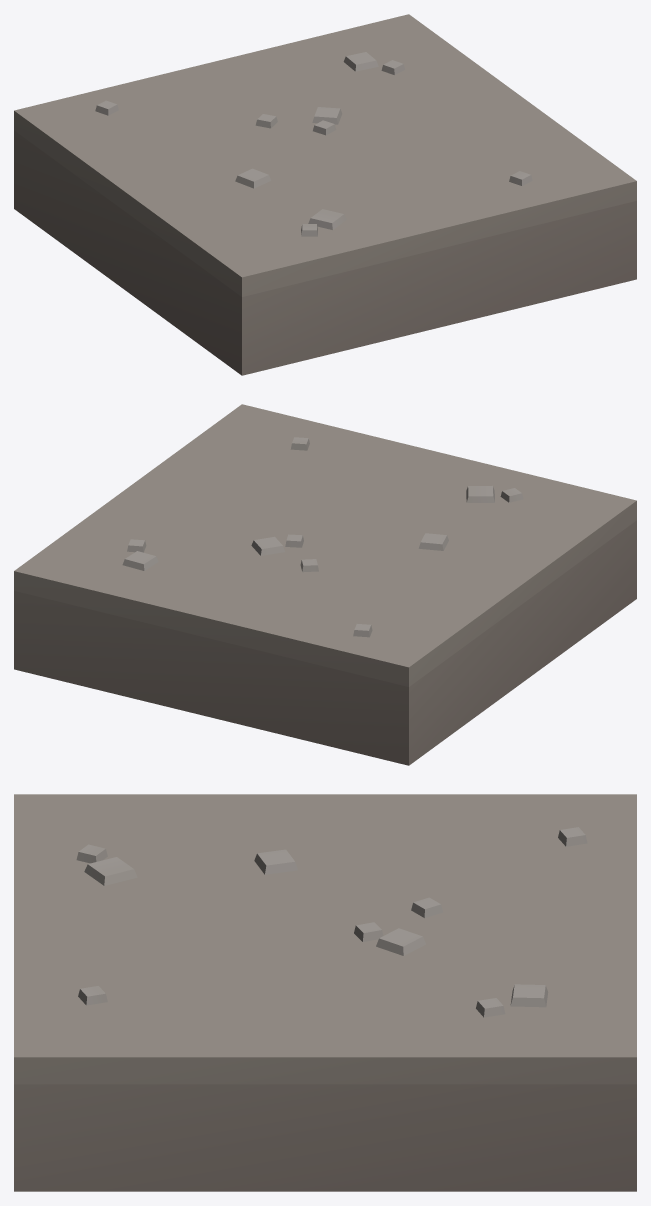
Rendered from TIERRA SIMPLE.fbx.
3 renders of one model, top to bottom at view 1: azimuth 30°, elevation 25°; view 2: azimuth 150°, elevation 25°; view 3: azimuth 270°, elevation 25°, orthographic. The views are drawn at different scales.
Visible parts, largest first — view 1: floor_dirt; view 2: floor_dirt; view 3: floor_dirt.
Part boxes in pixels (x1,y1,x2,y2): floor_dirt: (14, 14, 636, 375); floor_dirt: (14, 404, 636, 765); floor_dirt: (14, 794, 636, 1191).
Bounding box in the file's own units: 900 × 900 × 227.
Materials: 1 (1 with a texture image).
